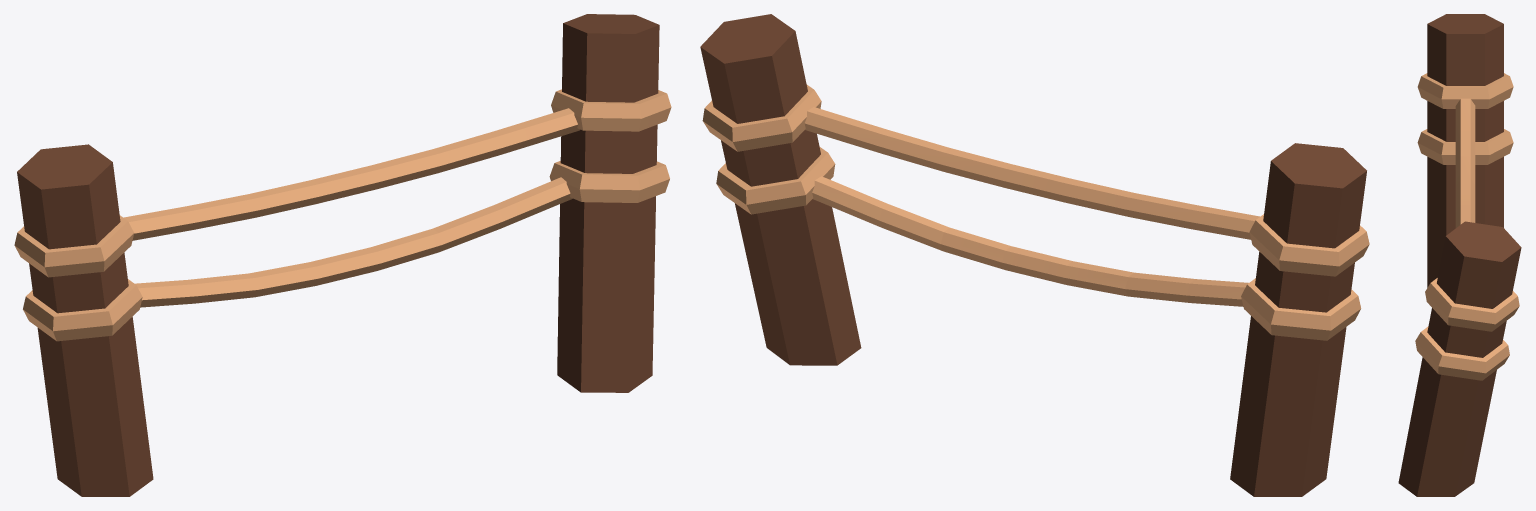
Rendered from Small_Fence.obj.
3 renders of one model, left to right at view 1: azimuth 30°, elevation 25°; view 2: azimuth 150°, elevation 25°; view 3: azimuth 270°, elevation 25°, orthographic. The views are drawn at different scales.
Parts seen in each view (by area): view 1: PP_Small_Fence_04; view 2: PP_Small_Fence_04; view 3: PP_Small_Fence_04.
Boxes of the visible parts, box(x1,y1,x2,y2) form: PP_Small_Fence_04: box(14, 14, 671, 496); PP_Small_Fence_04: box(700, 14, 1369, 496); PP_Small_Fence_04: box(1398, 14, 1521, 496).
Bounding box in the file's own units: 0.9786 × 0.487 × 0.2075.
Materials: 1 (1 with a texture image).
